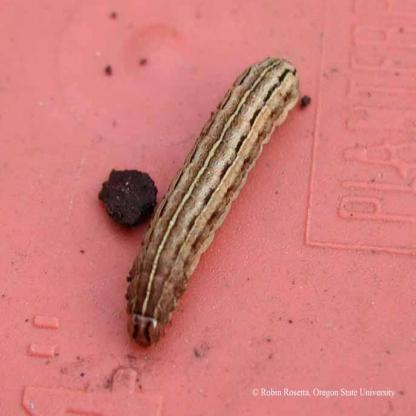armyworm: (92, 38, 329, 379)
